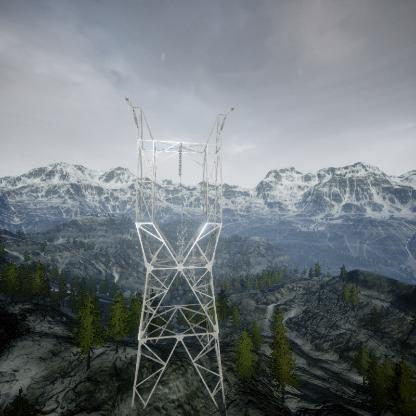tower: (128, 98, 234, 407)
